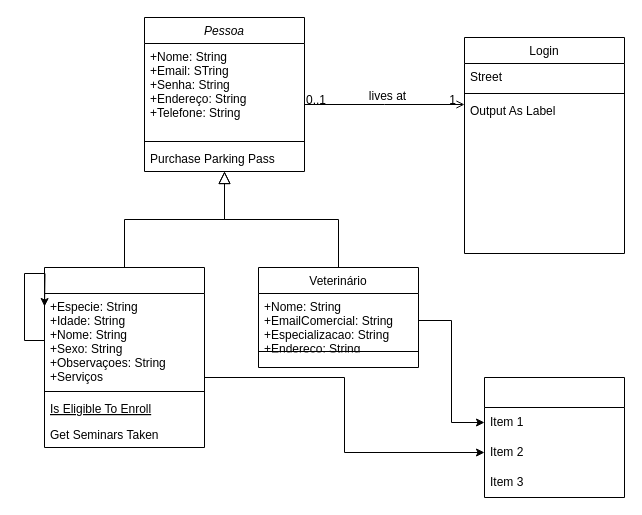
This 642x515 diagram has some shape labels left out. The box of each missing label's shape, as (x1, y1, x2, y2) in pixels:
Consulta: (484, 376, 624, 498)
Pet: (44, 266, 204, 448)
